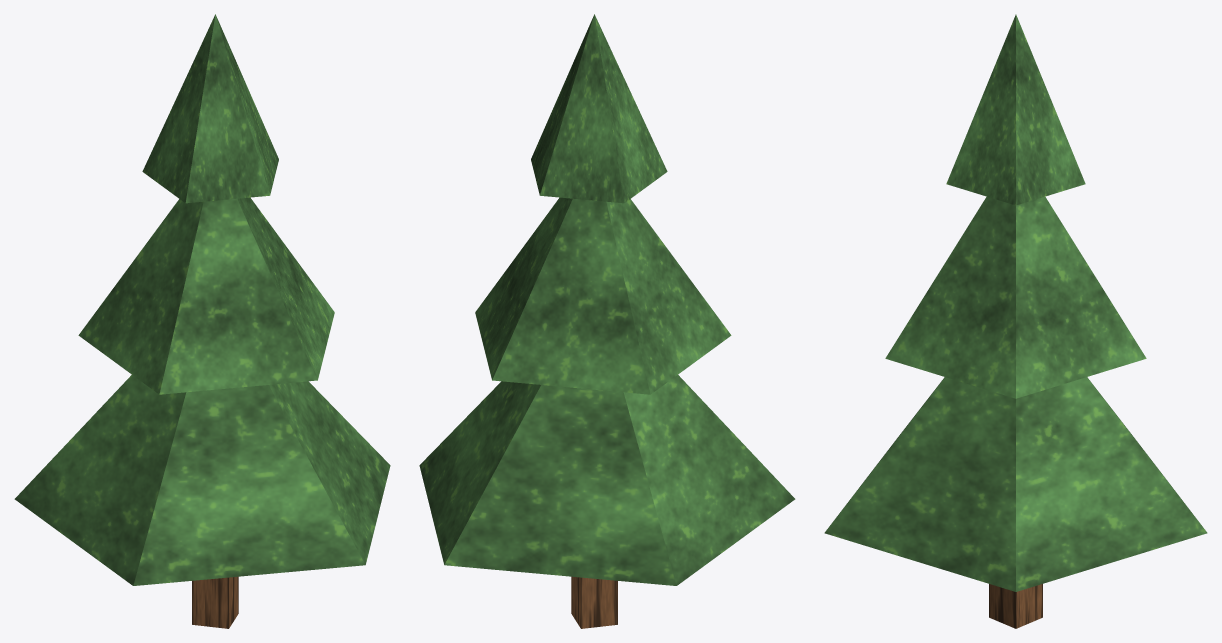
The model's file is PineTree_LOD3.fbx.
3 renders of one model, left to right at view 1: azimuth 30°, elevation 25°; view 2: azimuth 150°, elevation 25°; view 3: azimuth 270°, elevation 25°, orthographic.
Visible parts, largest first — view 1: PineTree_LOD3; view 2: PineTree_LOD3; view 3: PineTree_LOD3.
Boxes of the visible parts, bbox=[...] form: PineTree_LOD3: bbox=[14, 14, 390, 628]; PineTree_LOD3: bbox=[419, 14, 795, 628]; PineTree_LOD3: bbox=[824, 14, 1207, 628].
Bounding box in the file's own units: 2.98 × 5.45 × 3.14.
2 materials, 2 textured.
